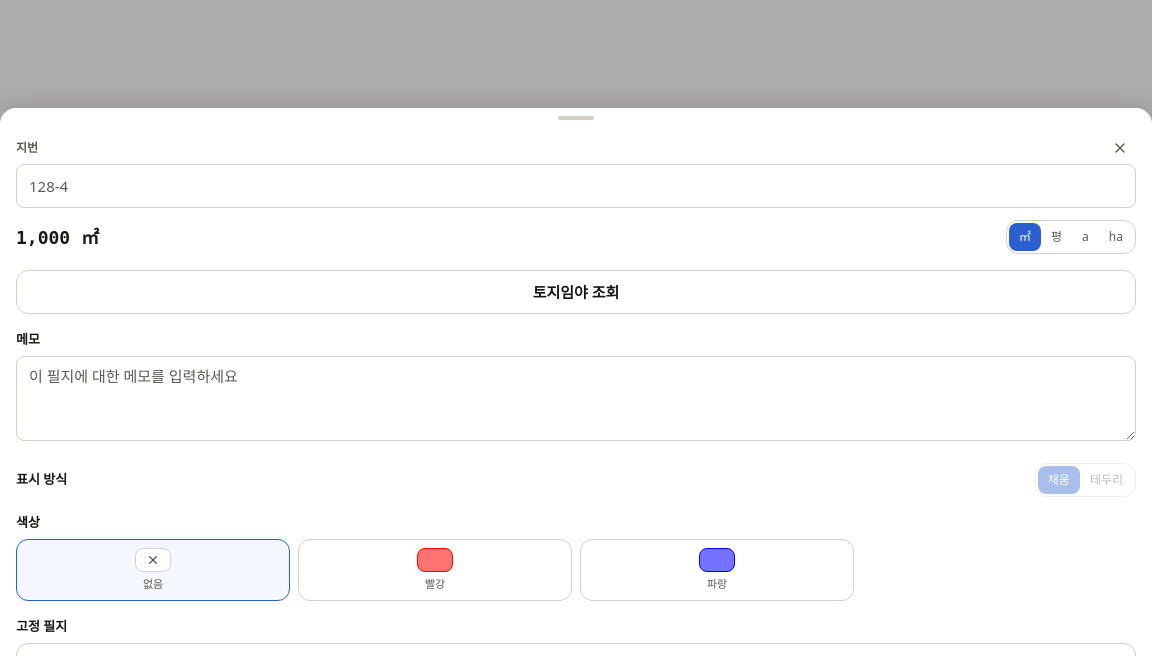
Scenario: 토지 정보 카드 (명세 §시트 내용 3) › 이름 입력 중이면 "기본 지번" 보조 표시가 나타난다 (명세 §시트 내용 1)
Expected: the text "1,000 ㎡" is shown, [16, 226, 99, 248]
Expected: the text "기본 지번:" is not shown
In the field named "이름": (576, 186) [16, 164, 1136, 208], type "집앞"
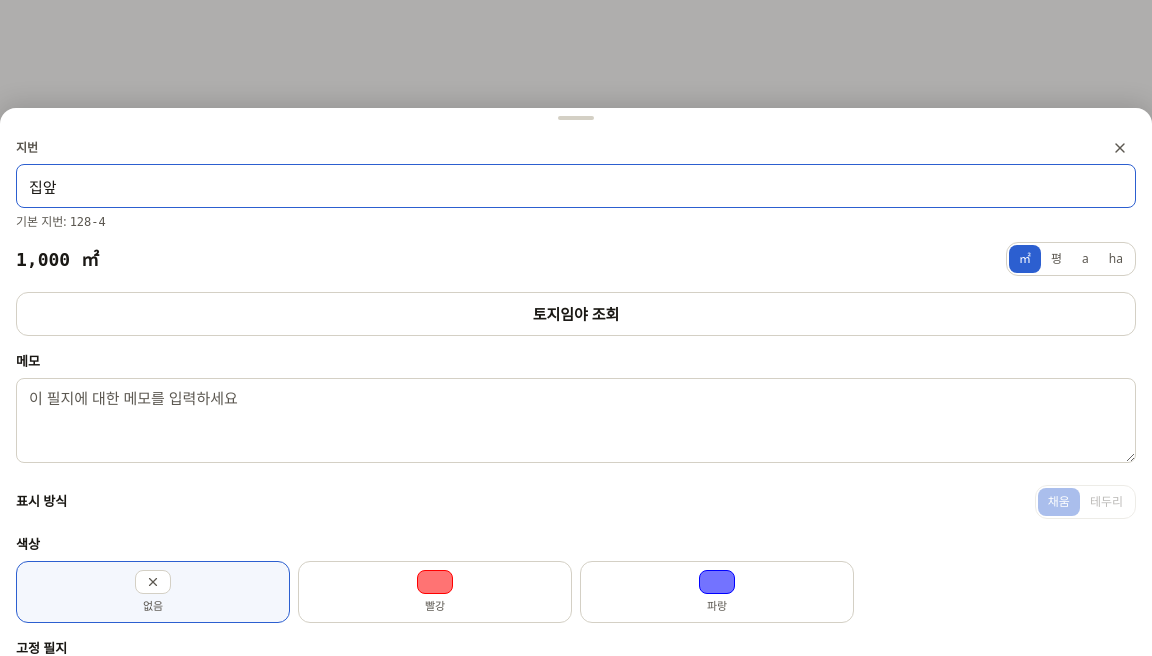
Now the text "기본 지번: 128-4" is shown, box [16, 213, 106, 230]
Now the text "128-4" is shown, box [70, 215, 106, 229]
